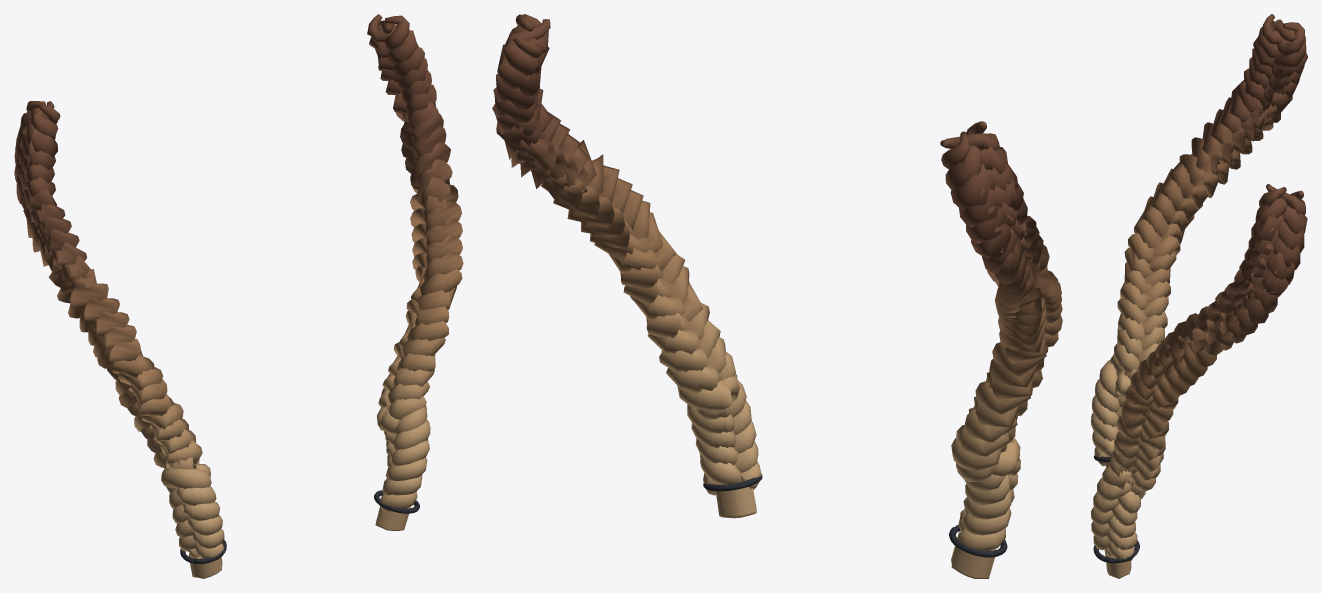
The model's file is Ombre-8f89c6f6601b253-hair.glb.
The picture shows the model from 3 angles, left to right: view 1: azimuth 30°, elevation 25°; view 2: azimuth 150°, elevation 25°; view 3: azimuth 270°, elevation 25°; orthographic projection. The views are drawn at different scales.
Visible parts, largest first — view 1: 226 hairLengths / Hair / chestnut226, 226 hairLengths / Hair / ties226; view 2: 226 hairLengths / Hair / chestnut226, 226 hairLengths / Hair / ties226; view 3: 226 hairLengths / Hair / chestnut226, 226 hairLengths / Hair / ties226.
Boxes of the visible parts, x1,y1,x2,y2 form: 226 hairLengths / Hair / chestnut226: [14, 14, 463, 578]; 226 hairLengths / Hair / ties226: [180, 490, 419, 563]; 226 hairLengths / Hair / chestnut226: [492, 14, 1062, 578]; 226 hairLengths / Hair / ties226: [703, 474, 1007, 557]; 226 hairLengths / Hair / chestnut226: [1091, 14, 1307, 578]; 226 hairLengths / Hair / ties226: [1093, 455, 1139, 563].
Bounding box in the file's own units: 1.03 × 1.06 × 0.4842.
2 materials, 1 textured.
